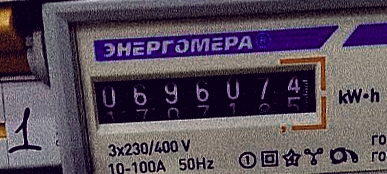0: (93, 85, 114, 111), (220, 76, 237, 103)
4: (281, 72, 298, 97)
5: (282, 96, 298, 115)
6: (126, 82, 147, 109), (188, 80, 206, 105)
7: (249, 76, 268, 103)
9: (156, 81, 177, 107)
screen: (74, 53, 330, 146)
